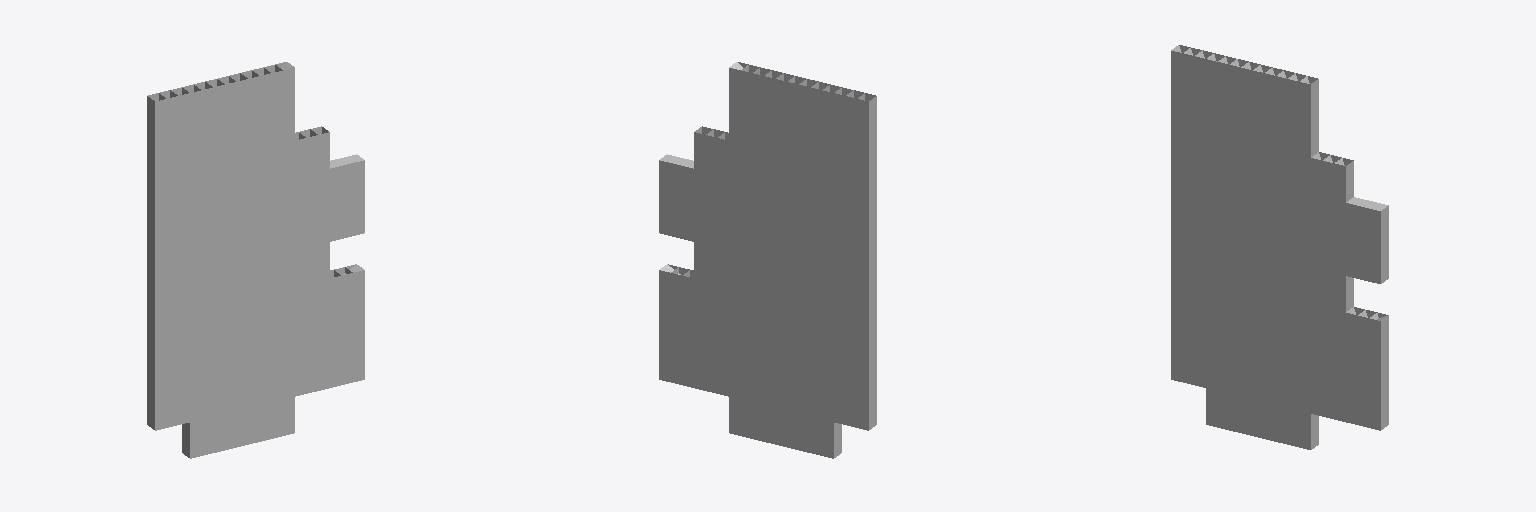
Rendered from 3d_Desolace-Pond 04.wlw.obj.
3 renders of one model, left to right at view 1: azimuth 30°, elevation 25°; view 2: azimuth 150°, elevation 25°; view 3: azimuth 330°, elevation 25°, orthographic.
Size of the model in its own units: 150 by 250 by 10.